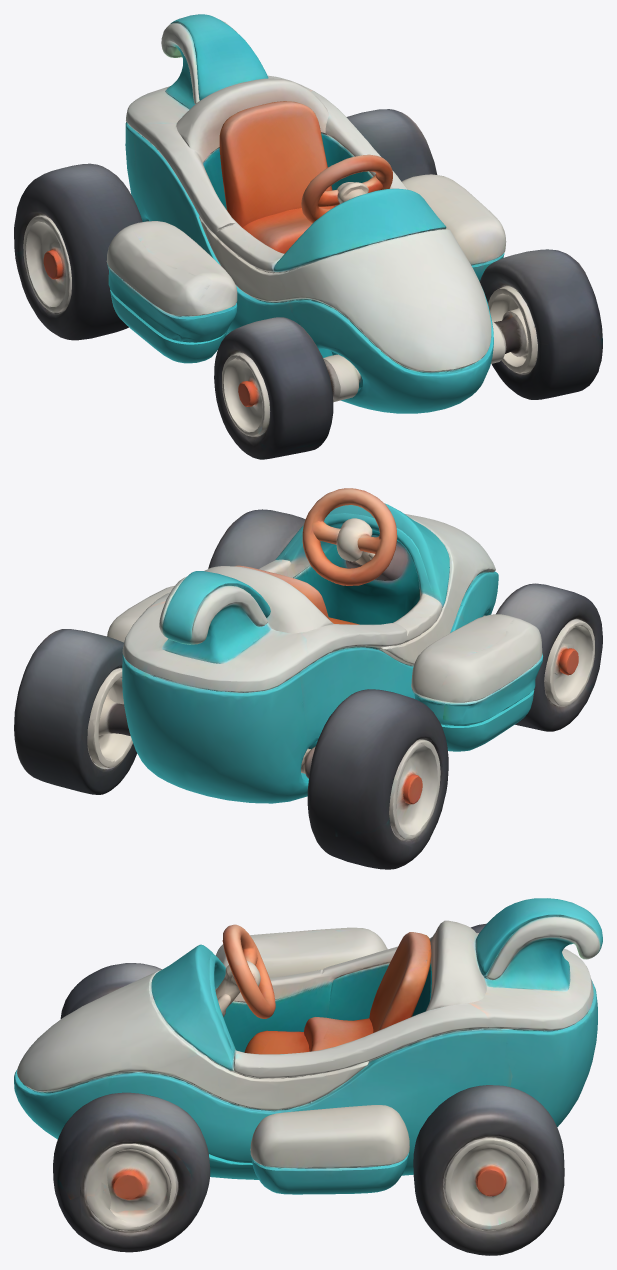
Rendered from reef-cartoon-runtime.glb.
The picture shows the model from 3 angles, top to bottom: view 1: azimuth 30°, elevation 25°; view 2: azimuth 150°, elevation 25°; view 3: azimuth 270°, elevation 25°; orthographic projection. The views are drawn at different scales.
Parts seen in each view (by area): view 1: model; view 2: model; view 3: model.
Part boxes in pixels (bbox=[...]): model: bbox=[14, 14, 602, 459]; model: bbox=[14, 488, 602, 869]; model: bbox=[14, 898, 602, 1255].
Size of the model in its own units: 1.42 by 0.9561 by 1.9.
1 material, 1 textured.
